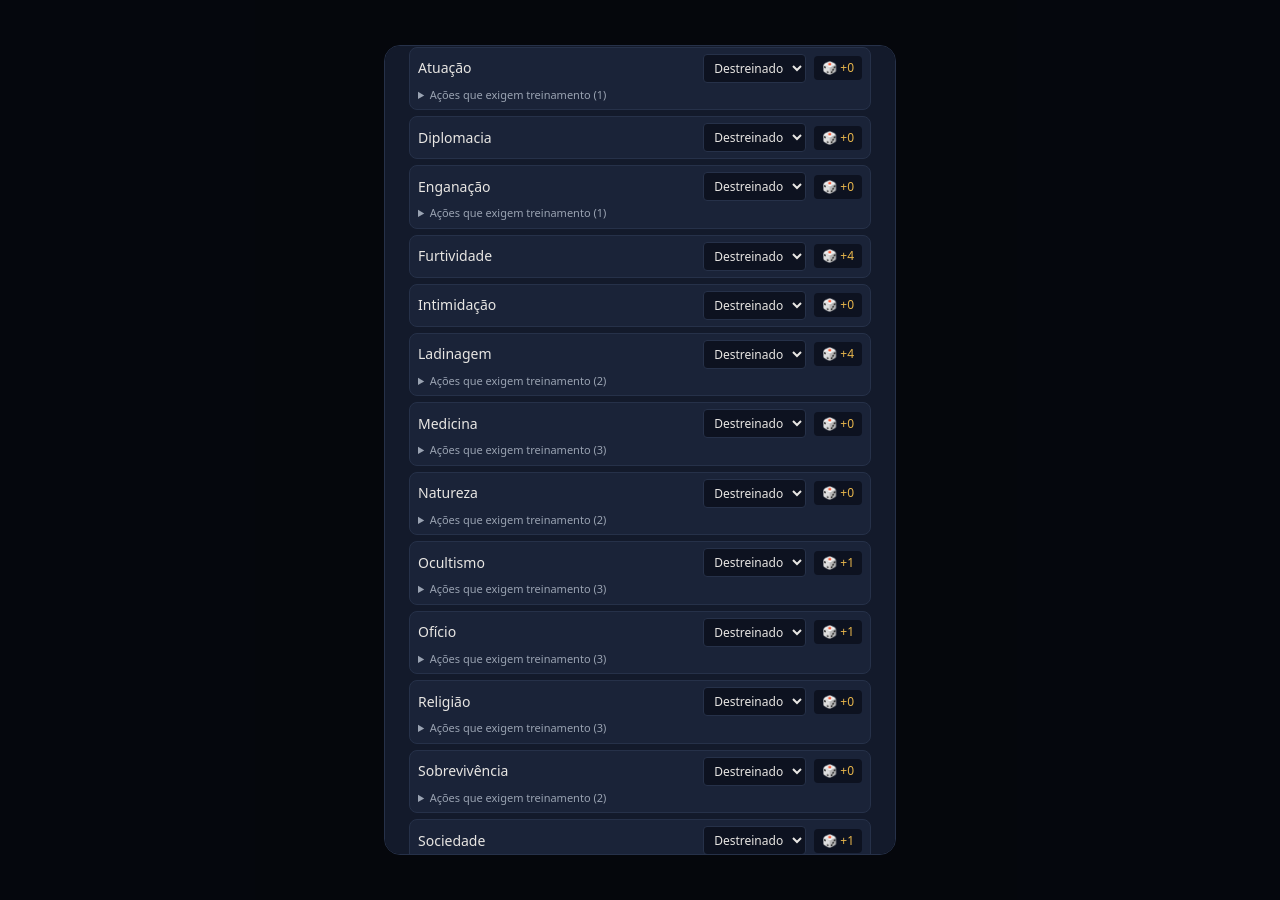
Scenario: perícias de PF2e na ficha (RV-153) › a ação de treinado aparece indisponível com o motivo, e não some da tela
The image size is (1280, 900).
(page scrolled)
Expected: the list item labelled "Medicina" is shown, [409,402,871,466]
Step 1. Click the heading "Ações que exigem treinamento (3)" below "Medicina" → (518, 450), box [430,442,606,457]
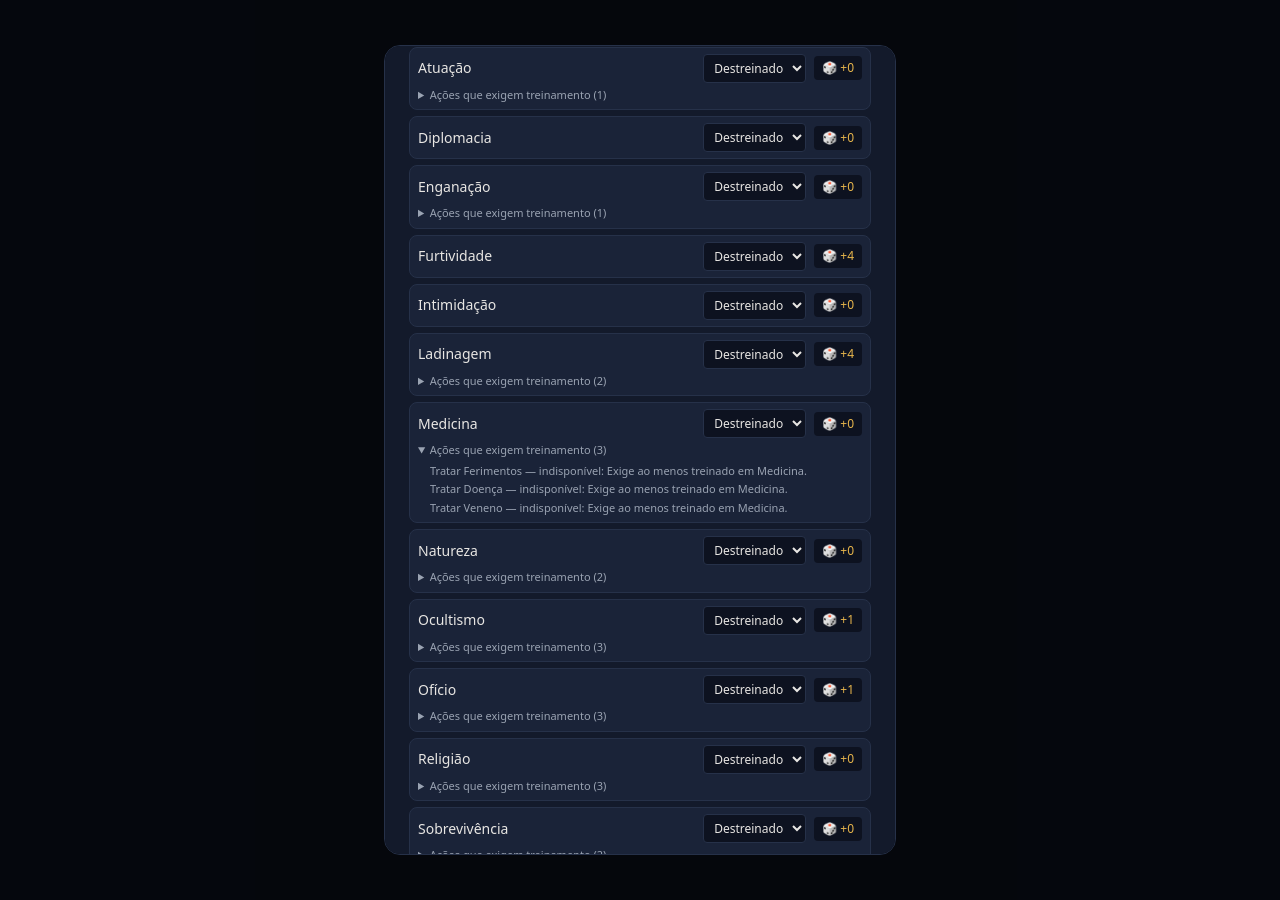
Expected: the list item "Tratar Ferimentos" shows "indisponível", [522,462,607,478]
Expected: the list item "Tratar Ferimentos" shows "Exige ao menos treinado em Medicina.", [607,462,807,478]
